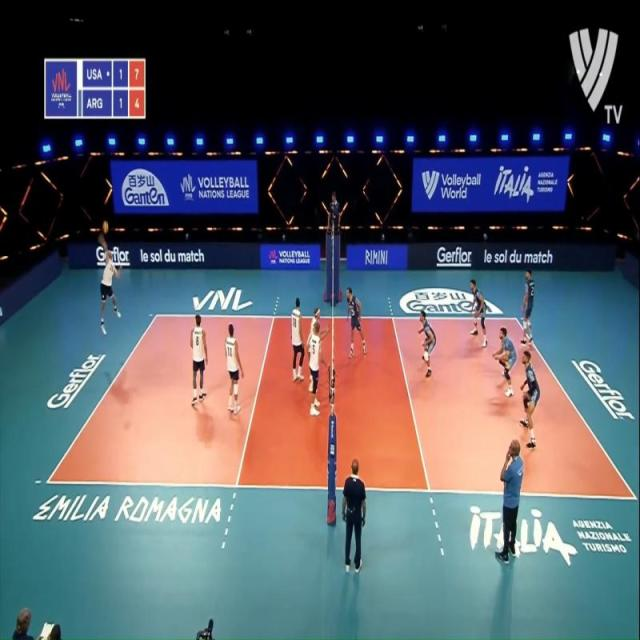volleyball: (102, 220, 109, 234)
